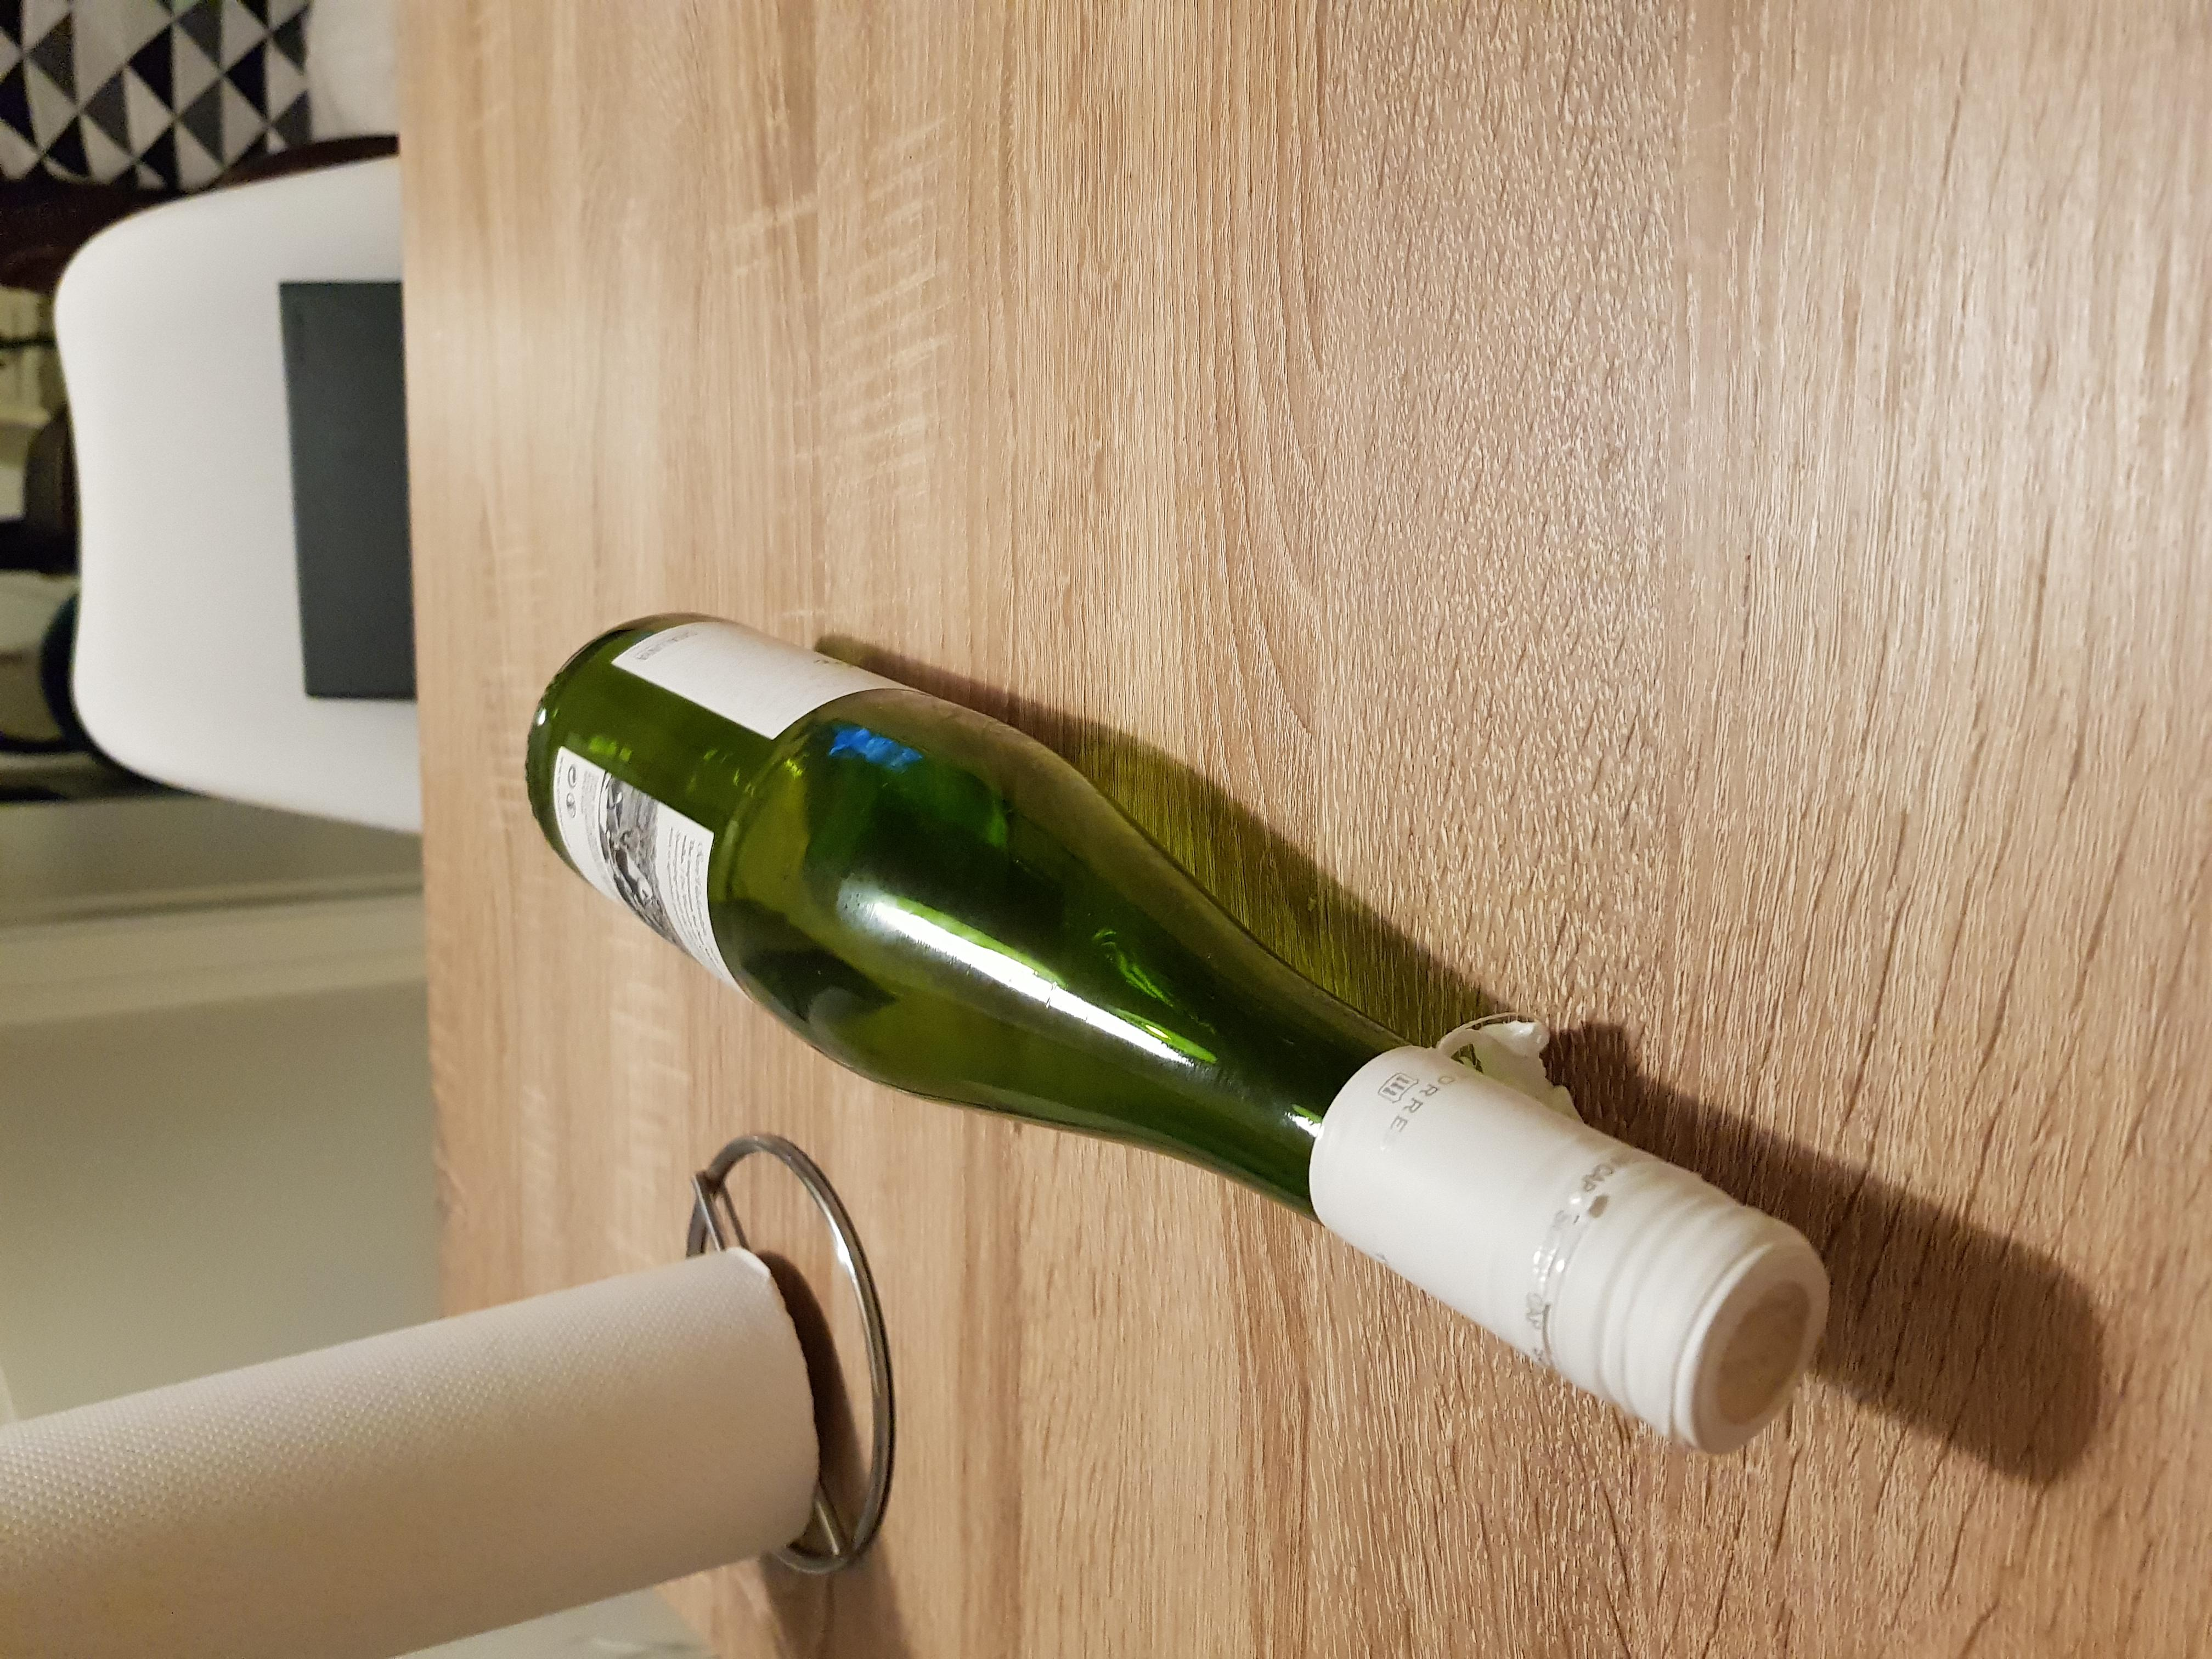Bottle: (519, 608, 1825, 1448)
